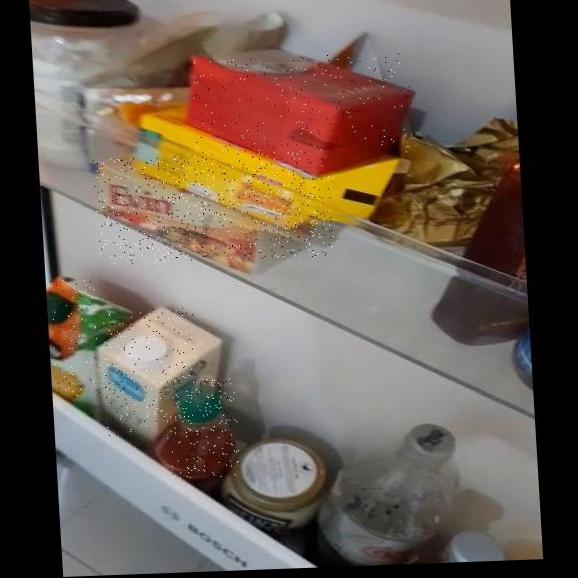butter: (93, 150, 335, 265)
cream: (186, 51, 414, 161)
juice: (50, 279, 102, 398)
milk: (100, 308, 200, 436)
sauce: (164, 378, 241, 479)
